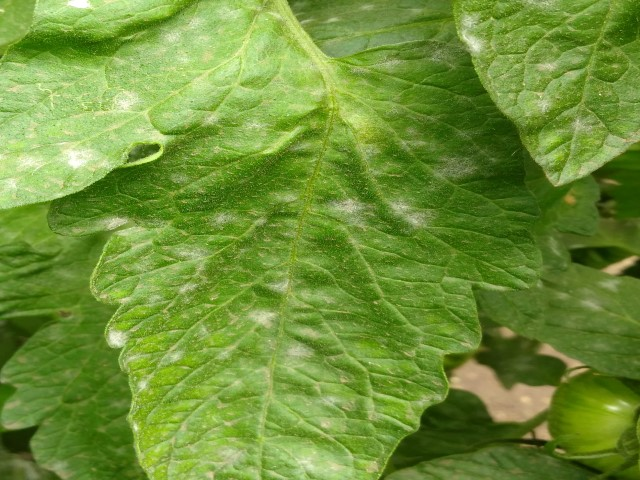oidio: (390, 196, 435, 233), (332, 195, 372, 232), (460, 19, 491, 62), (172, 239, 211, 271), (11, 151, 51, 177), (108, 86, 142, 114), (106, 324, 129, 354), (208, 208, 237, 230), (248, 303, 274, 327), (65, 149, 92, 171), (289, 341, 319, 360), (534, 88, 554, 116), (165, 351, 185, 367)
